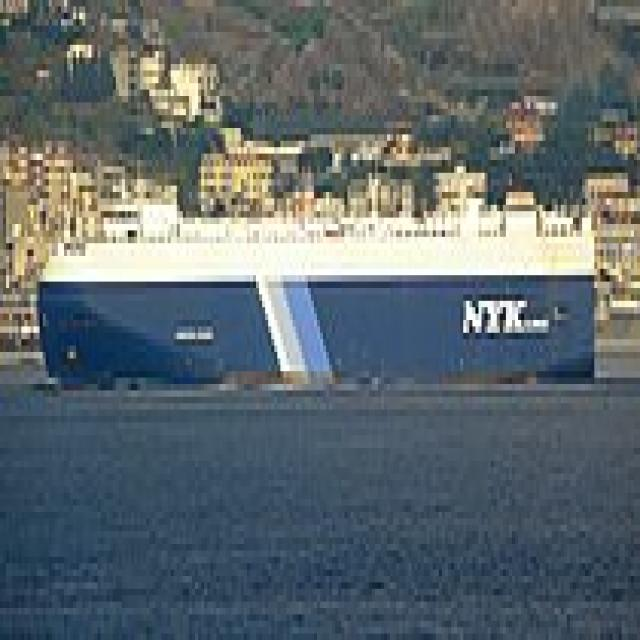Carrier: (25, 186, 598, 397)
